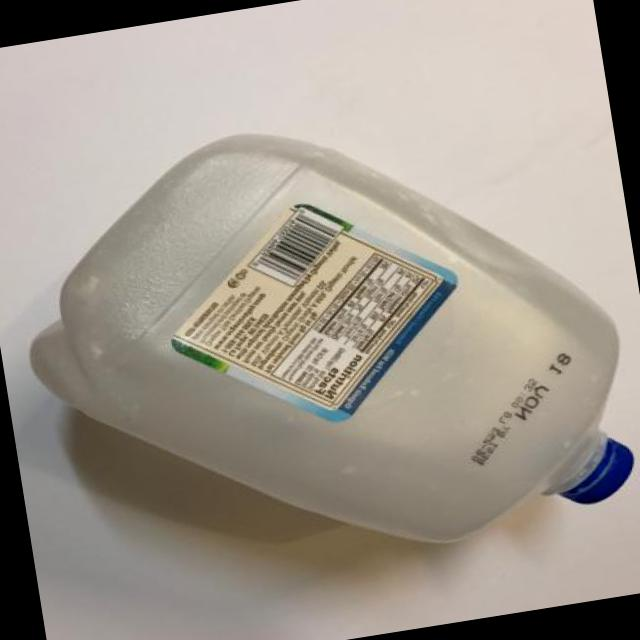bottle: (31, 135, 632, 542)
plastic: (31, 135, 617, 542), (562, 439, 634, 504)
